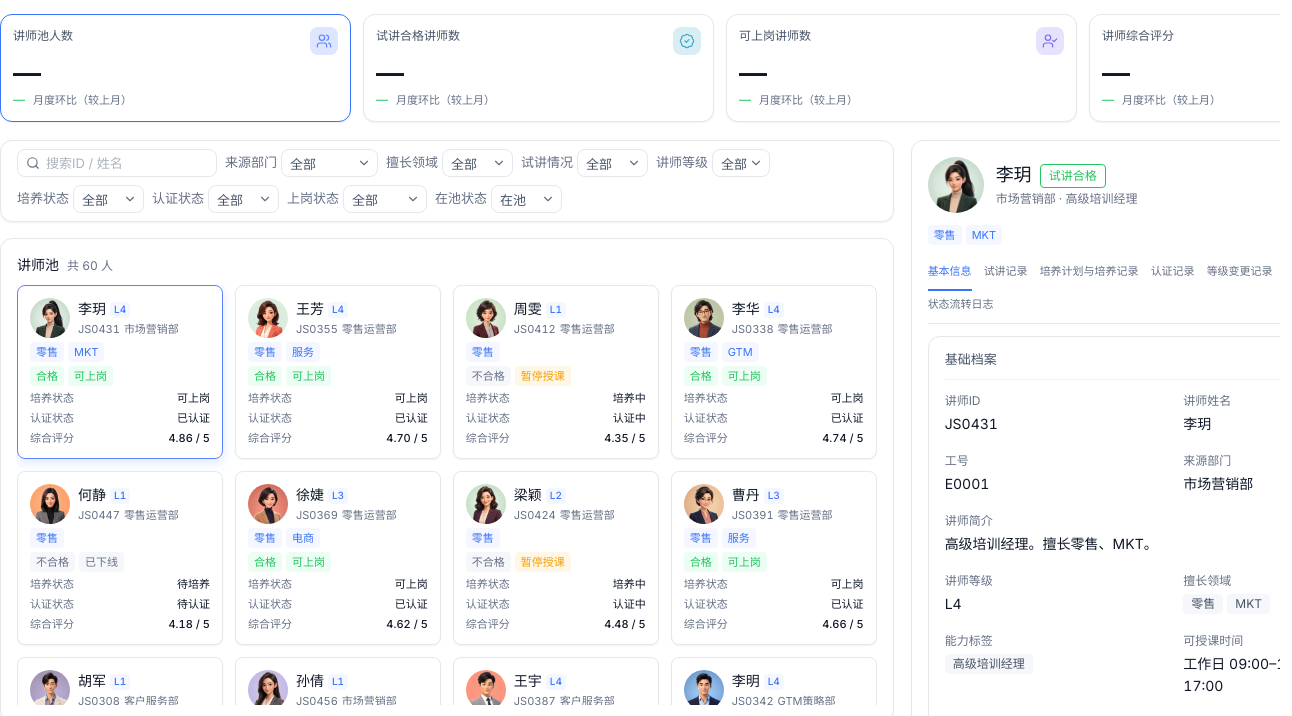
Scenario: P04 成长建议的模式开关 › 产品模式按讲师ID或姓名搜索，并与下拉叠加
Type "JS0431" into the search field named "搜索讲师" at (126, 163), box left=44, top=154, right=208, bottom=172
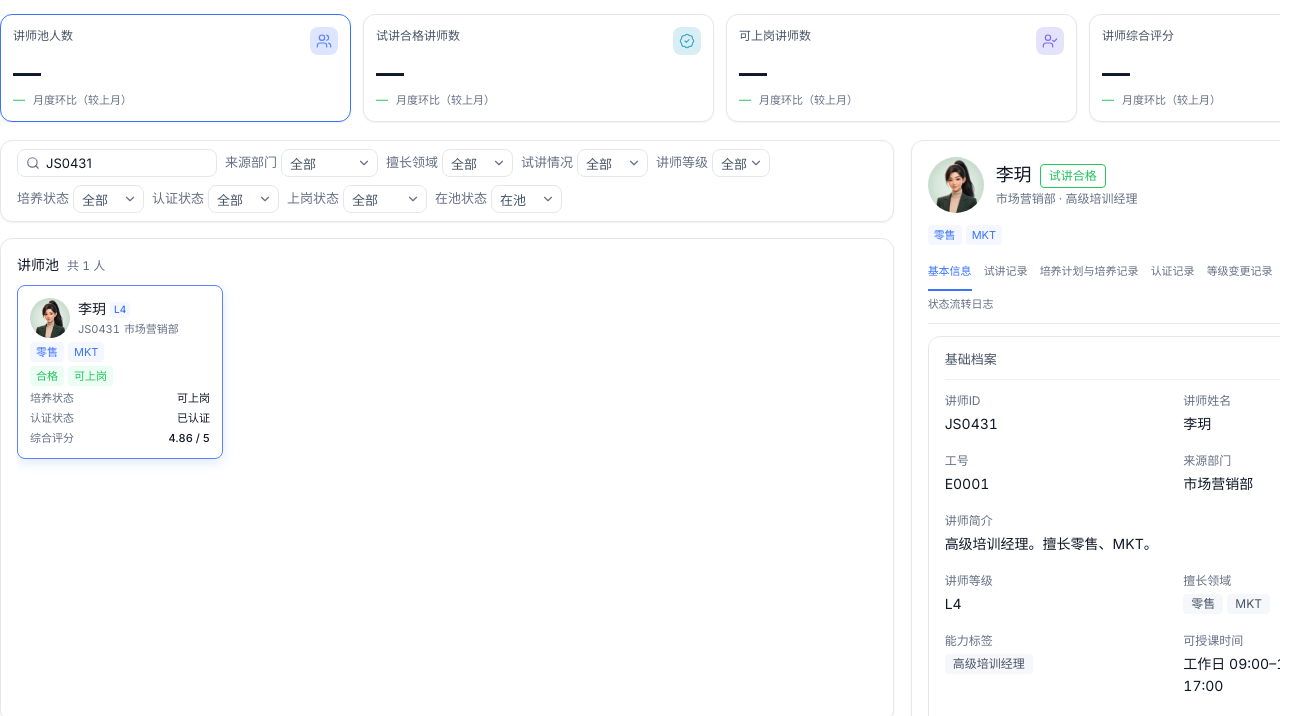
Now the number of buttons with test id "lecturer-card" is 1, box left=17, top=285, right=223, bottom=459
Now the text "共 1 人" is shown, box left=67, top=257, right=105, bottom=275
Replace the text in the search field named "搜索讲师" with "李玥" at (126, 163), box left=44, top=154, right=208, bottom=172
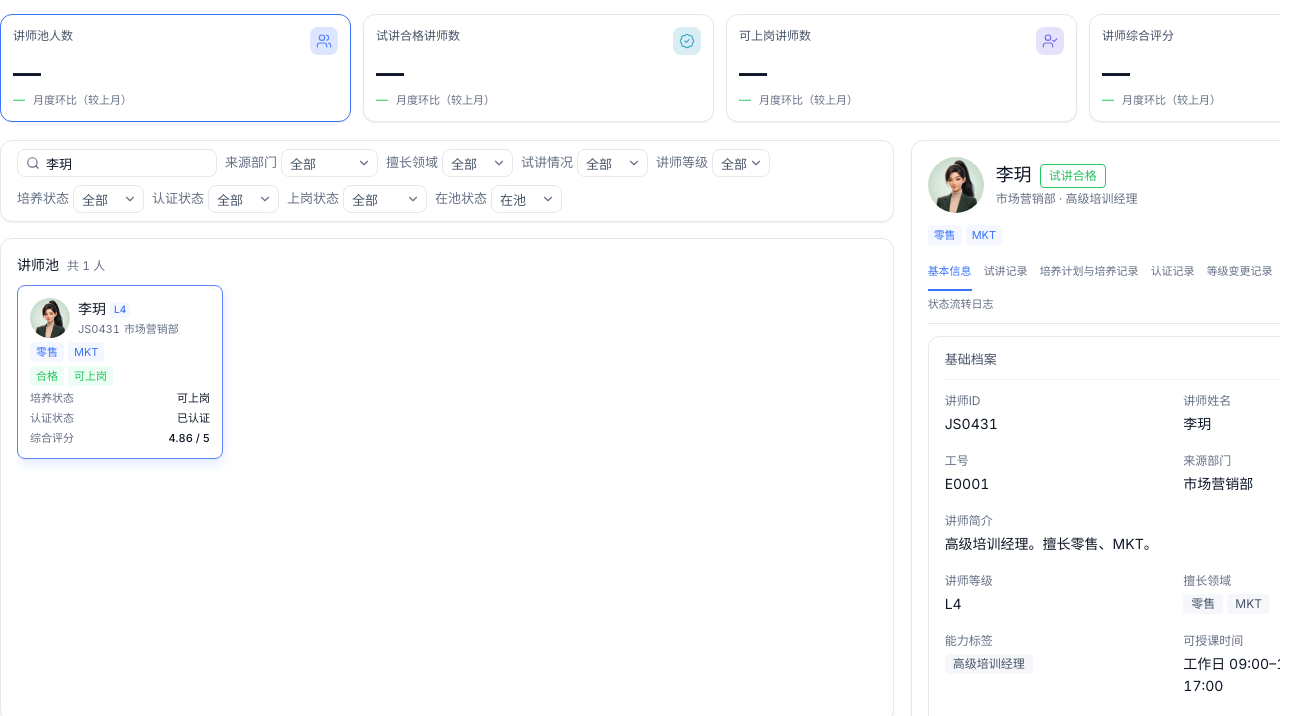
Now the number of buttons with test id "lecturer-card" is 1, box left=17, top=285, right=223, bottom=459
Clear the search field named "搜索讲师" at (126, 163), box left=44, top=154, right=208, bottom=172
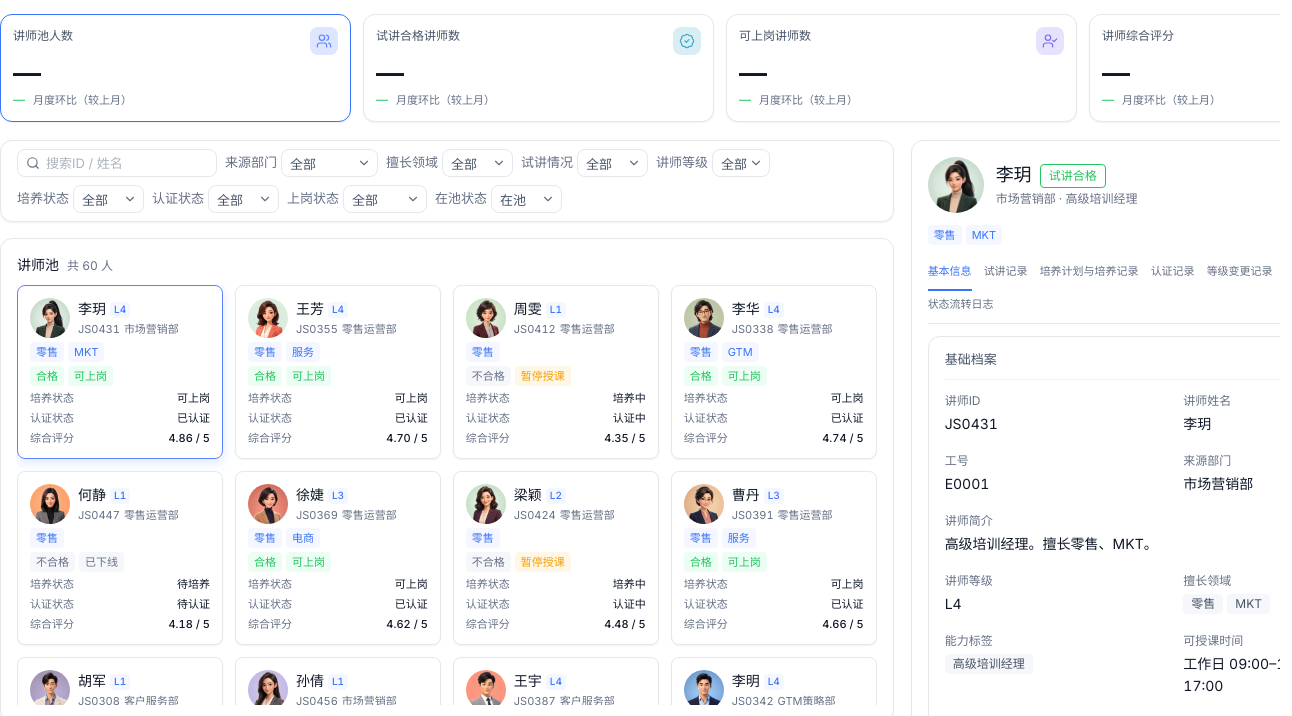
Select "L4" in the dropdown labelled "讲师等级" at (741, 163), box left=713, top=150, right=769, bottom=176
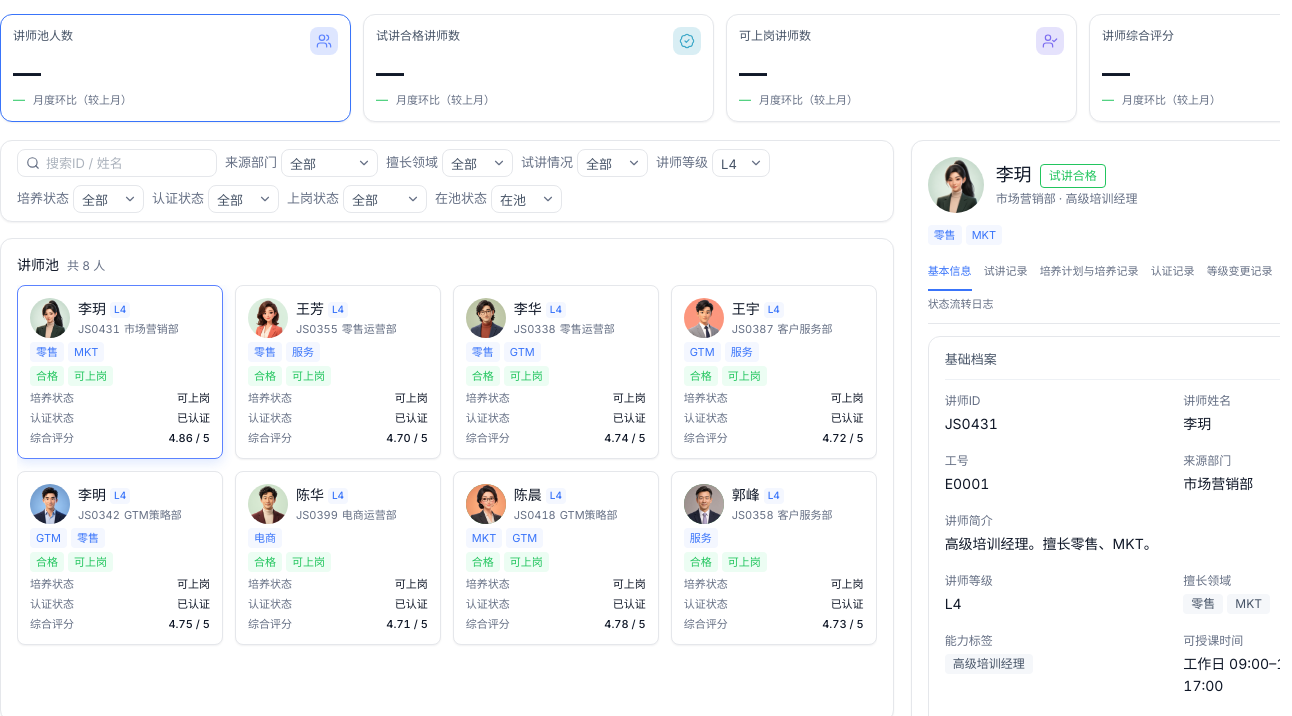
Now the number of buttons with test id "lecturer-card" is 8
